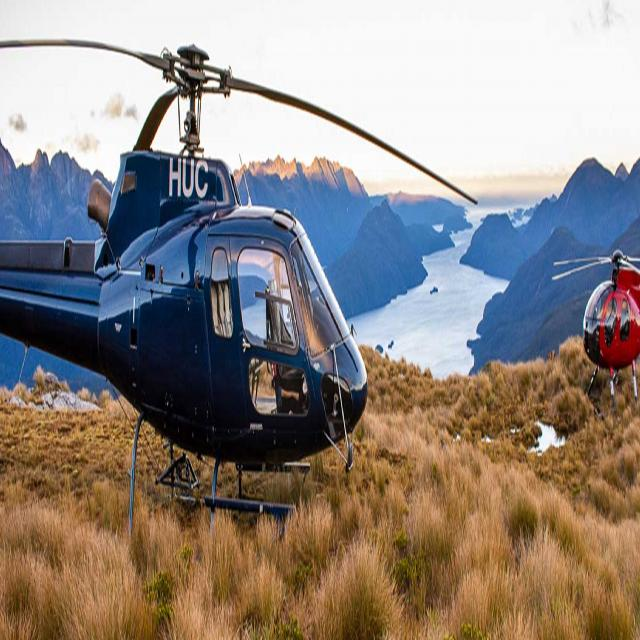helicopter: (1, 1, 385, 594), (546, 182, 640, 428)
